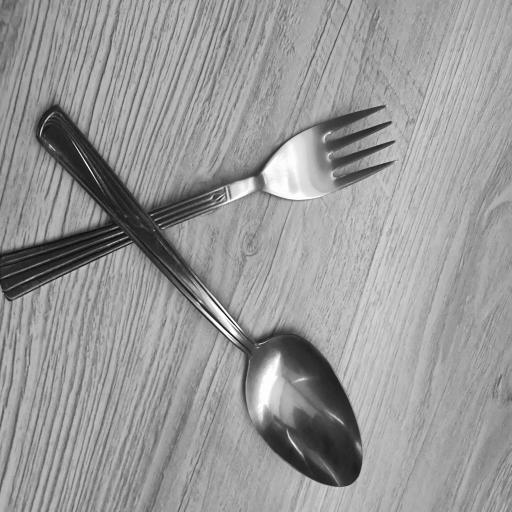fork: (0, 101, 400, 304)
spoon: (35, 103, 363, 489)
